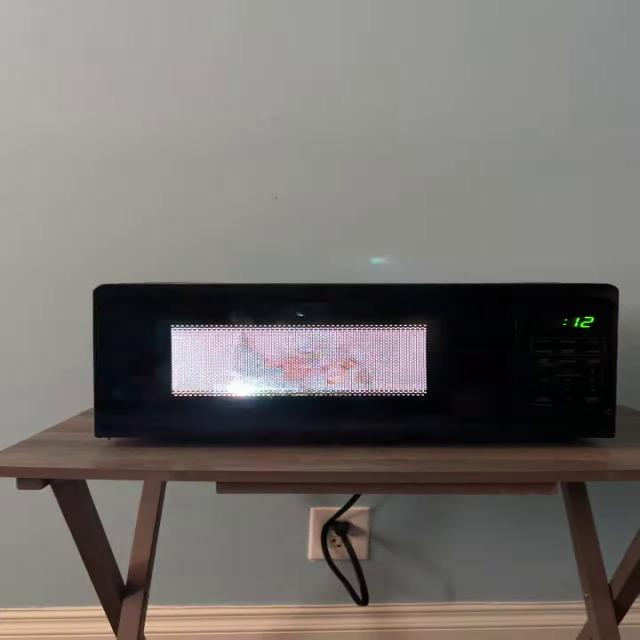fire: (152, 326, 441, 401)
